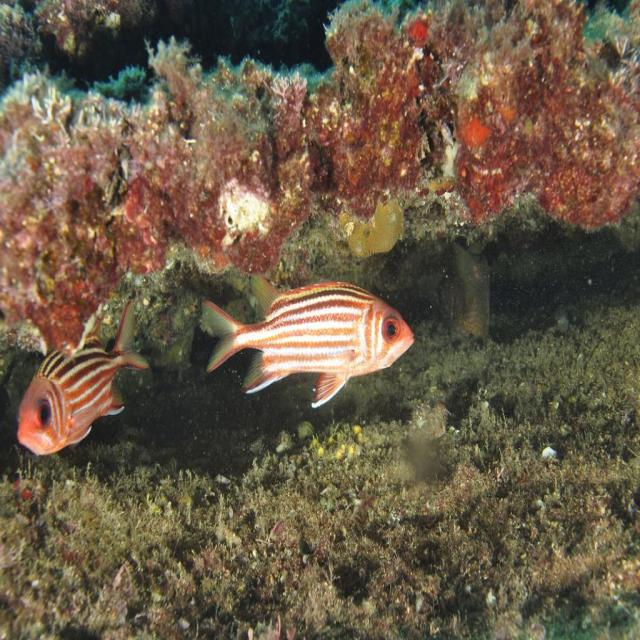Asker Baligi: (199, 272, 415, 410), (14, 297, 150, 458)
